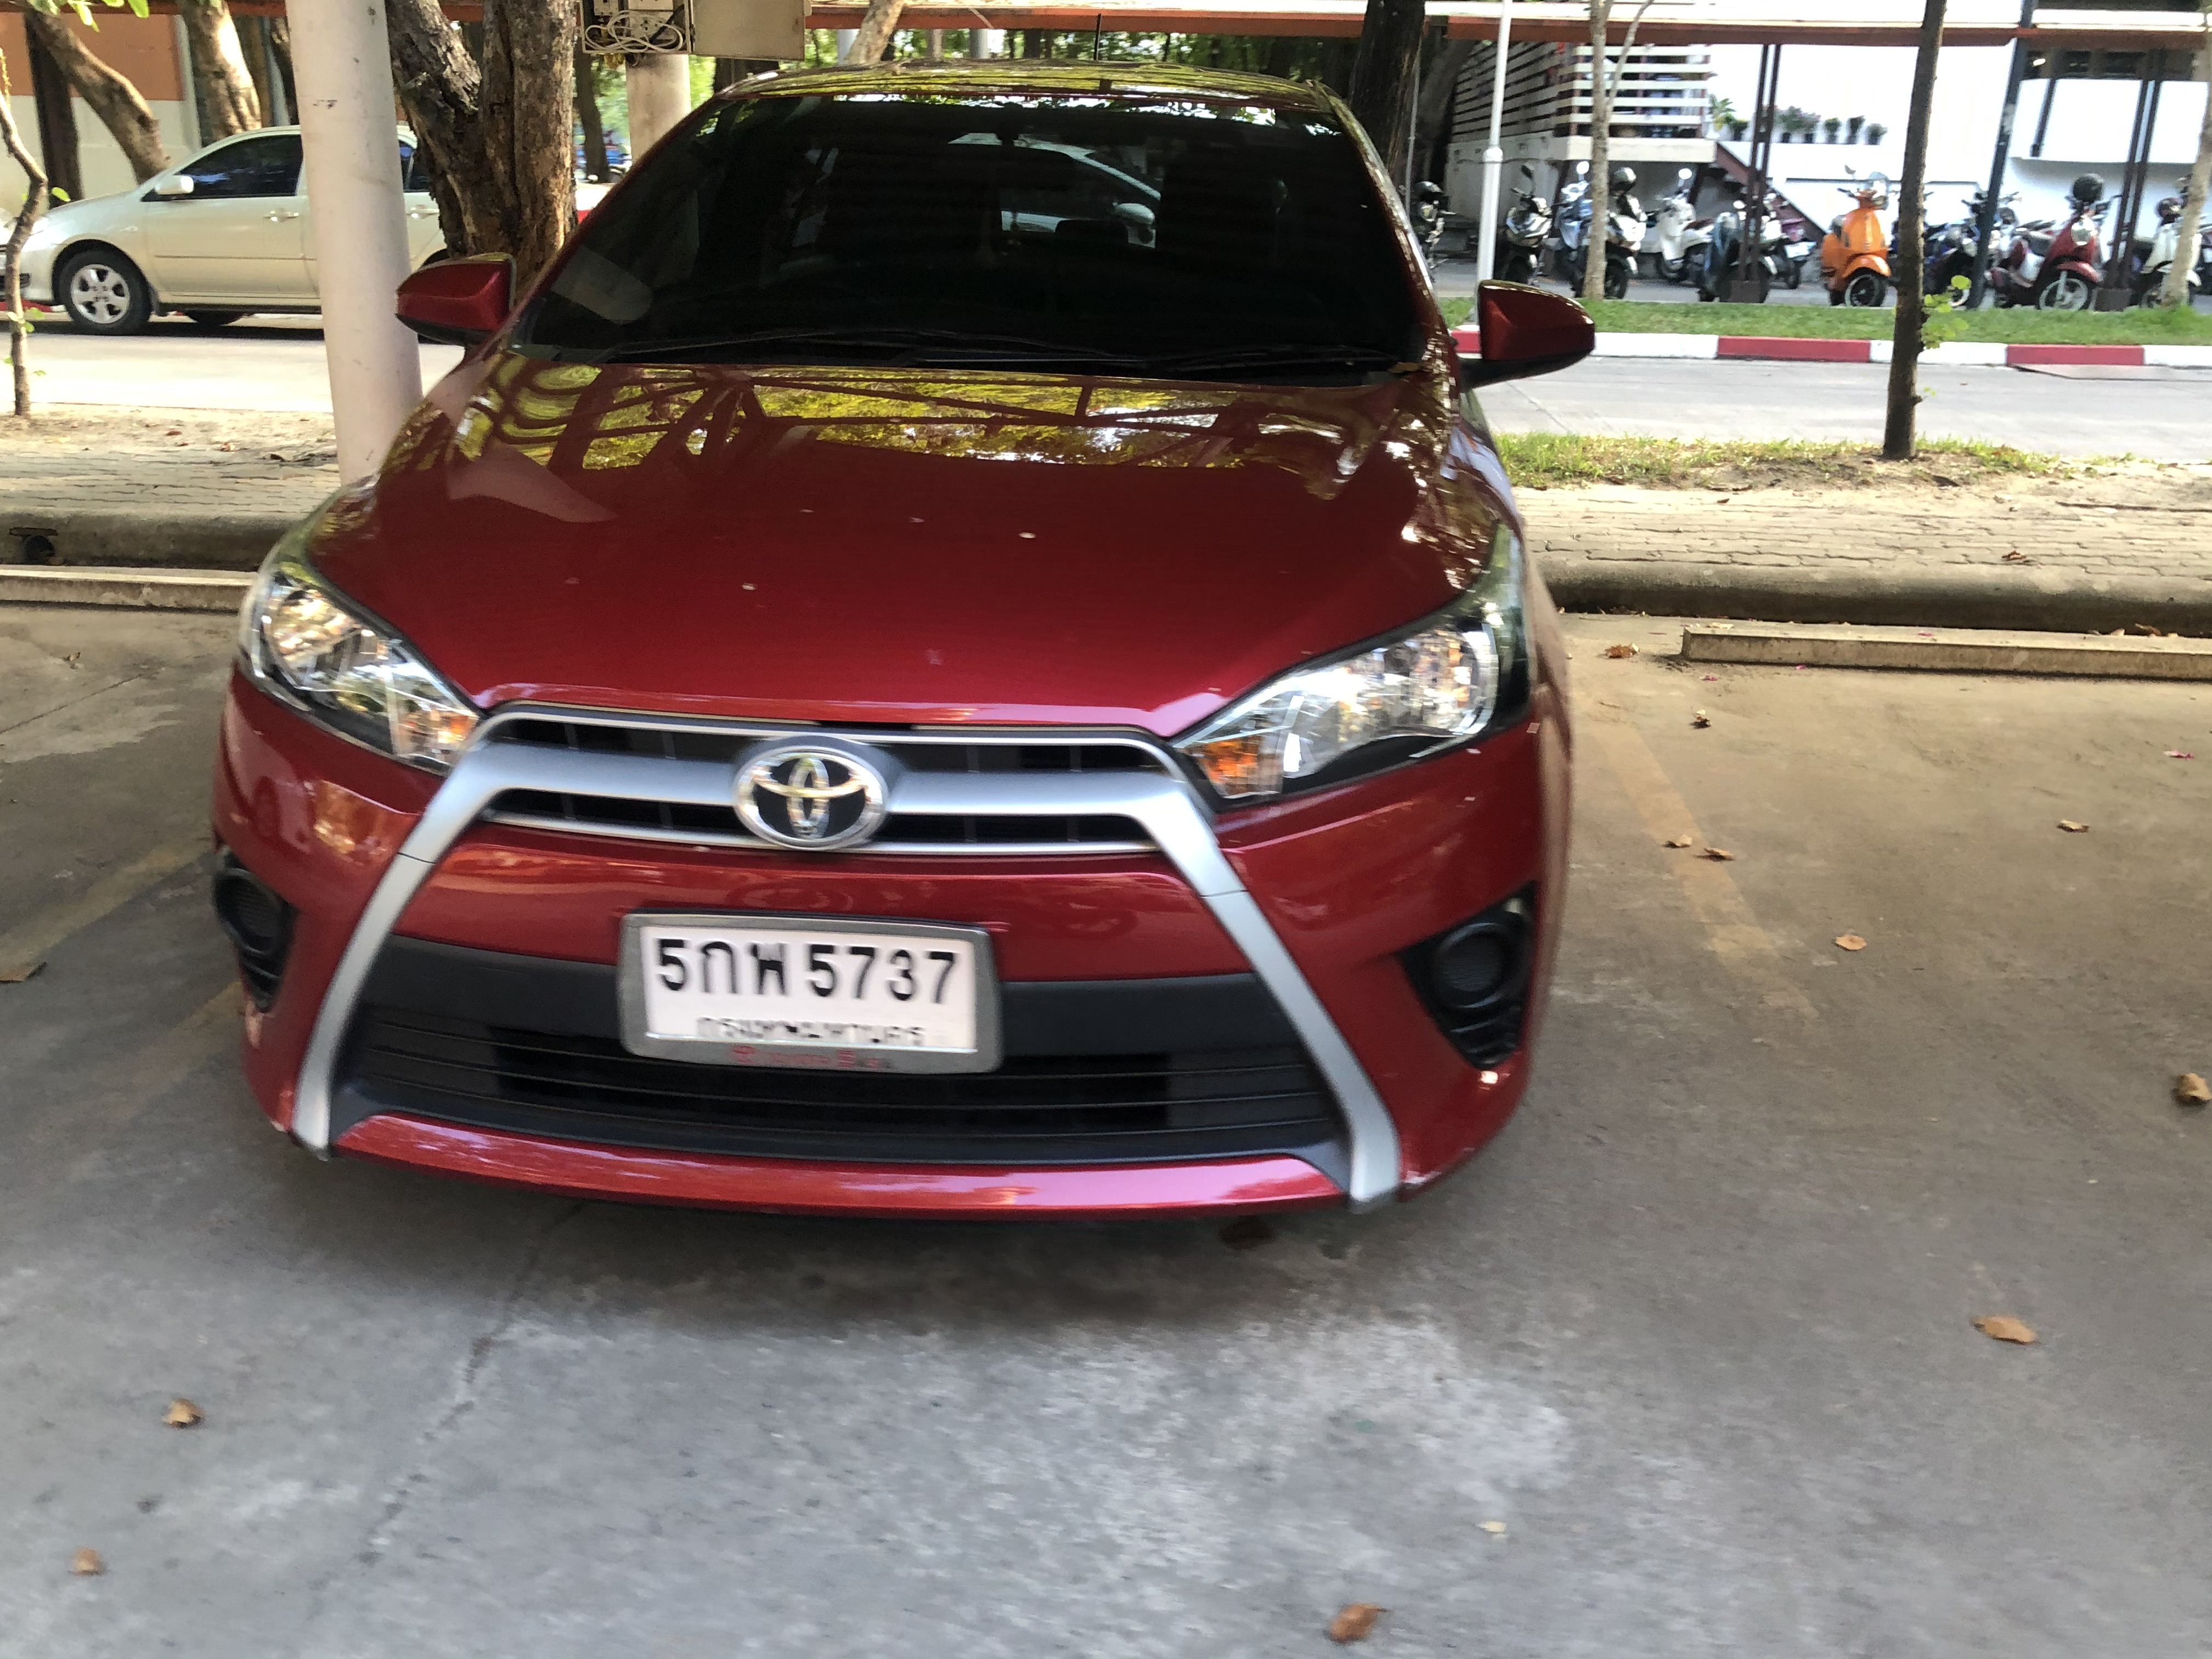in: (637, 929, 982, 1058)
out: (615, 910, 1003, 1073)
